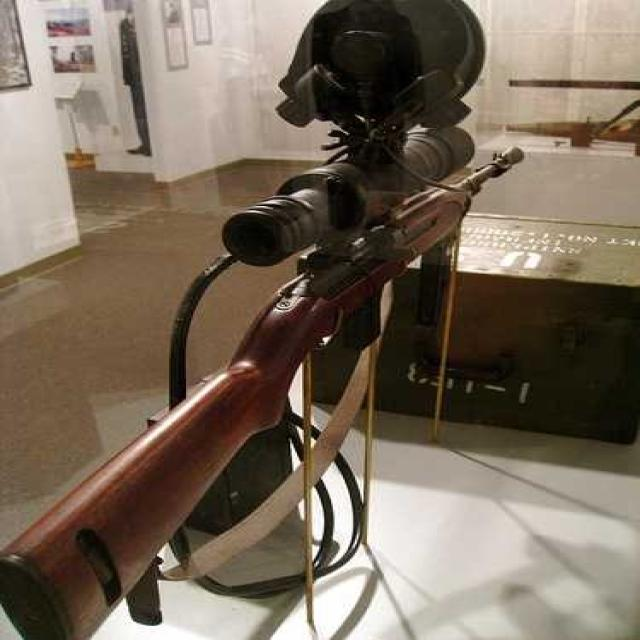heavyweapon: (1, 47, 588, 640)
